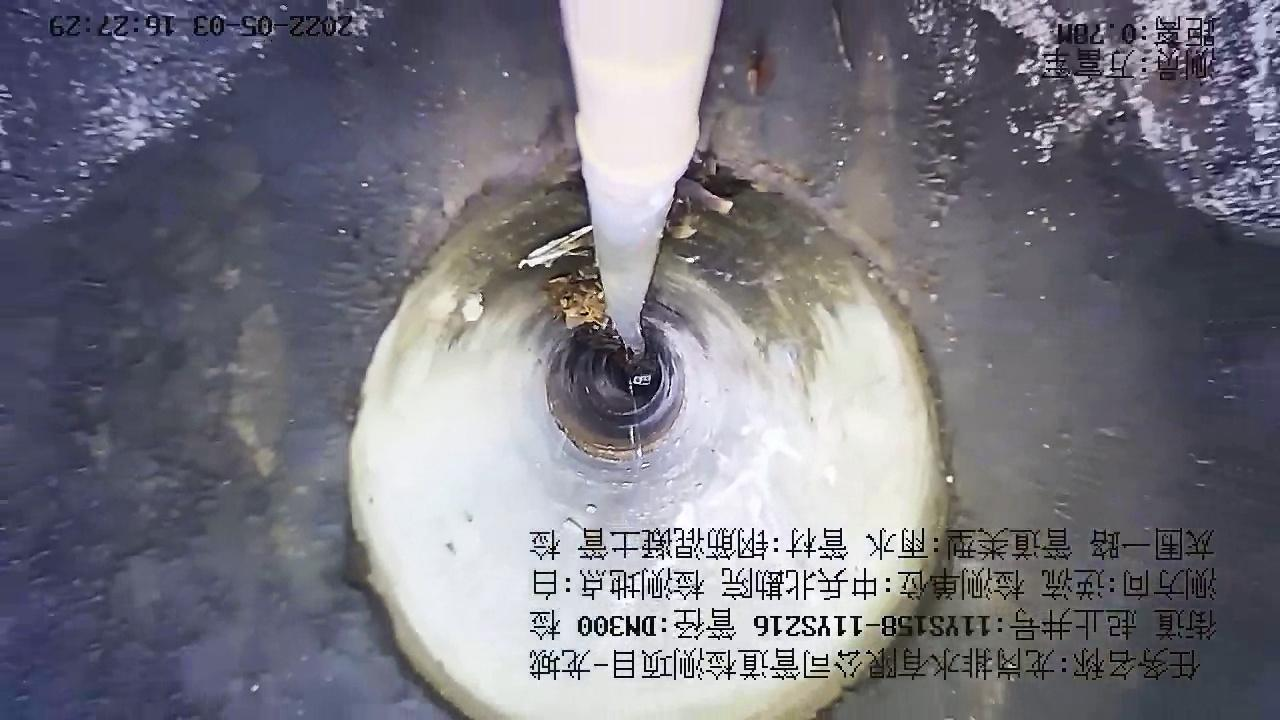YWCR: (561, 1, 722, 350)
